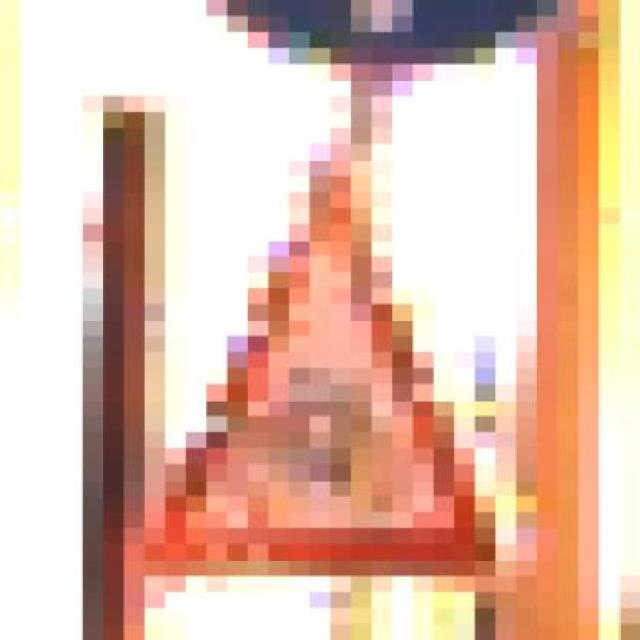CYCLE ROUTE AHEAD WARNING: (103, 128, 557, 608)
